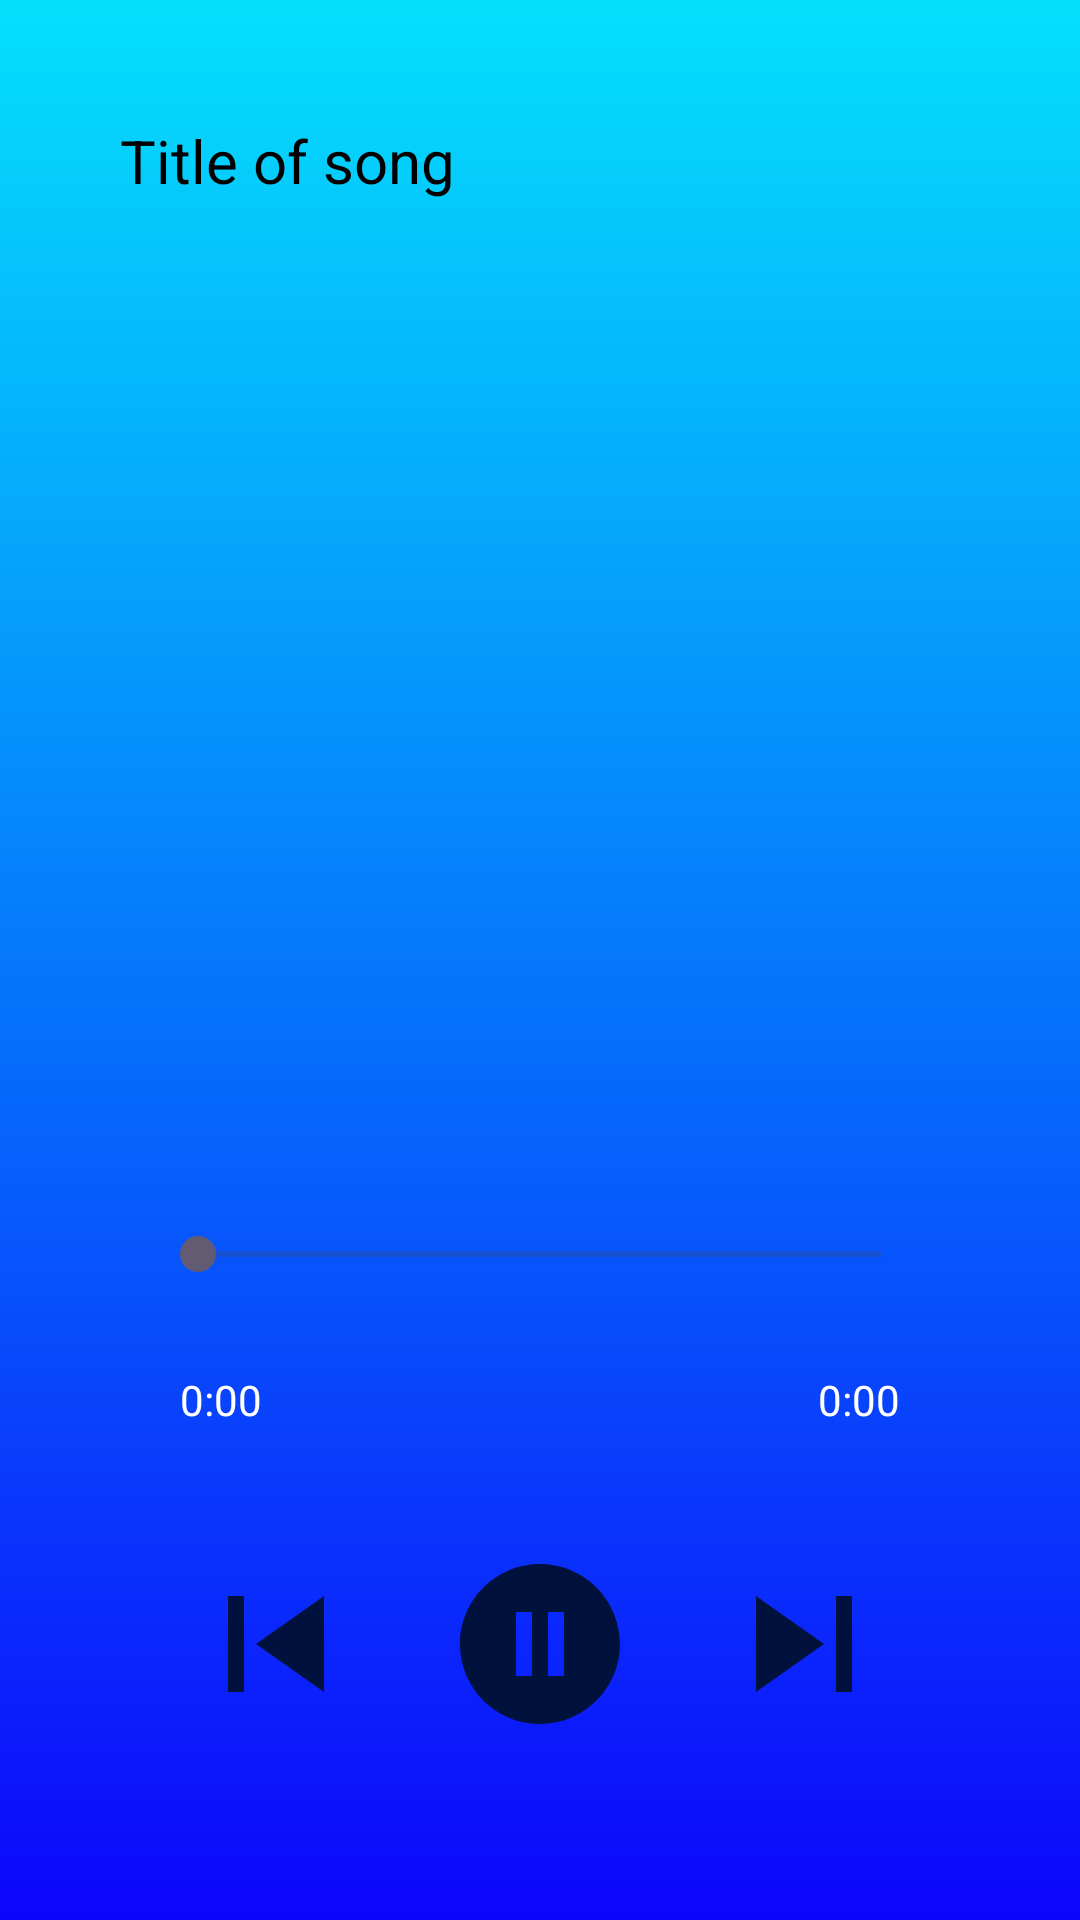

Screen size 1080px x 1920px. Icon name, then its center in pixels as [x,y]:
pause circle: [540,1644]
skip next: [804,1644]
skip previous: [276,1644]
